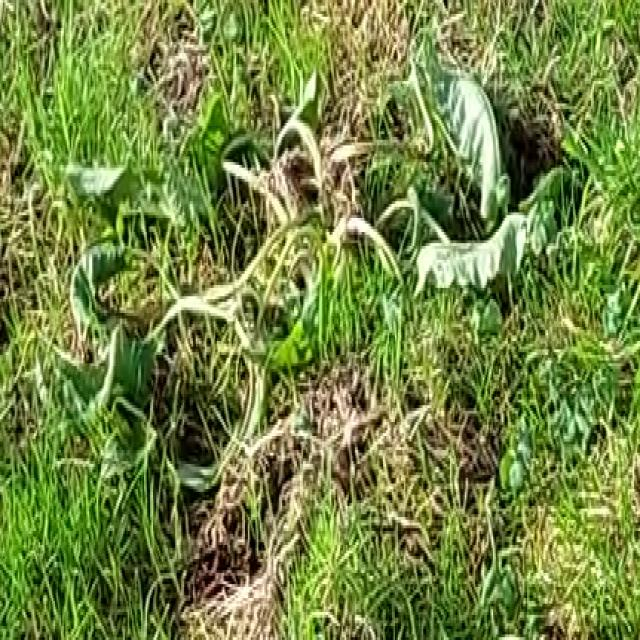organic waste: (55, 36, 597, 475)
